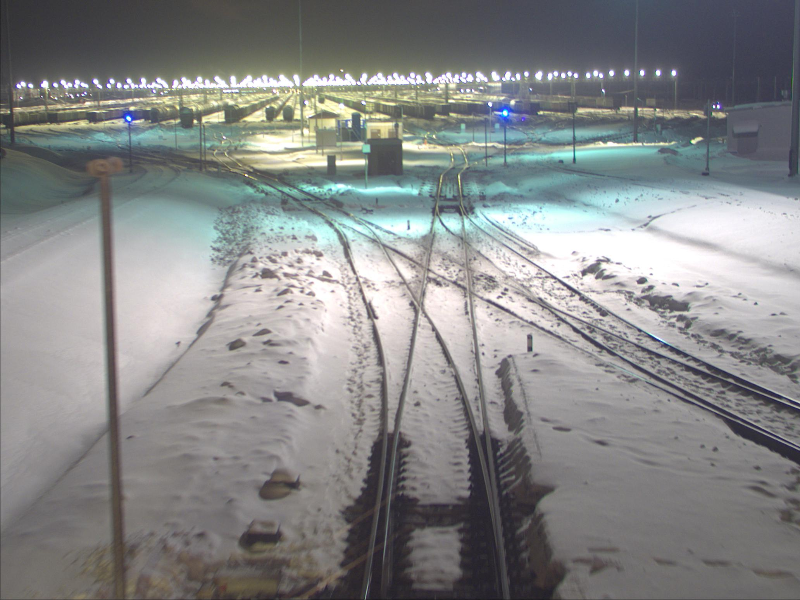left: (361, 512, 520, 596)
